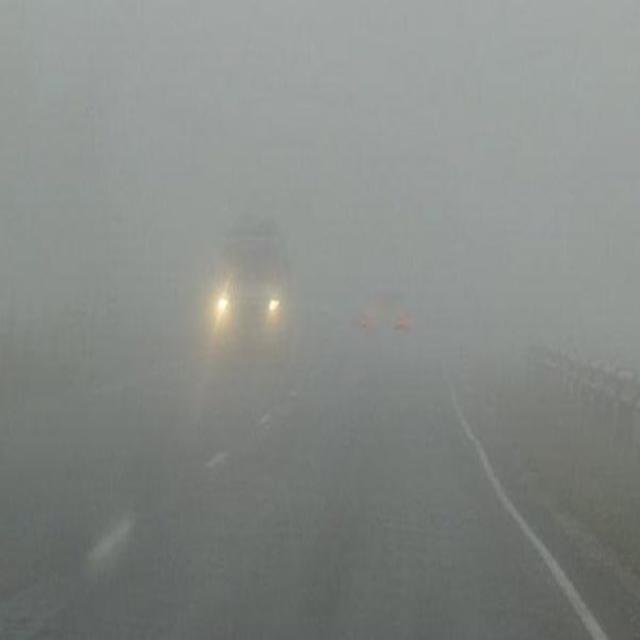car: (215, 230, 293, 356), (357, 278, 411, 352)
